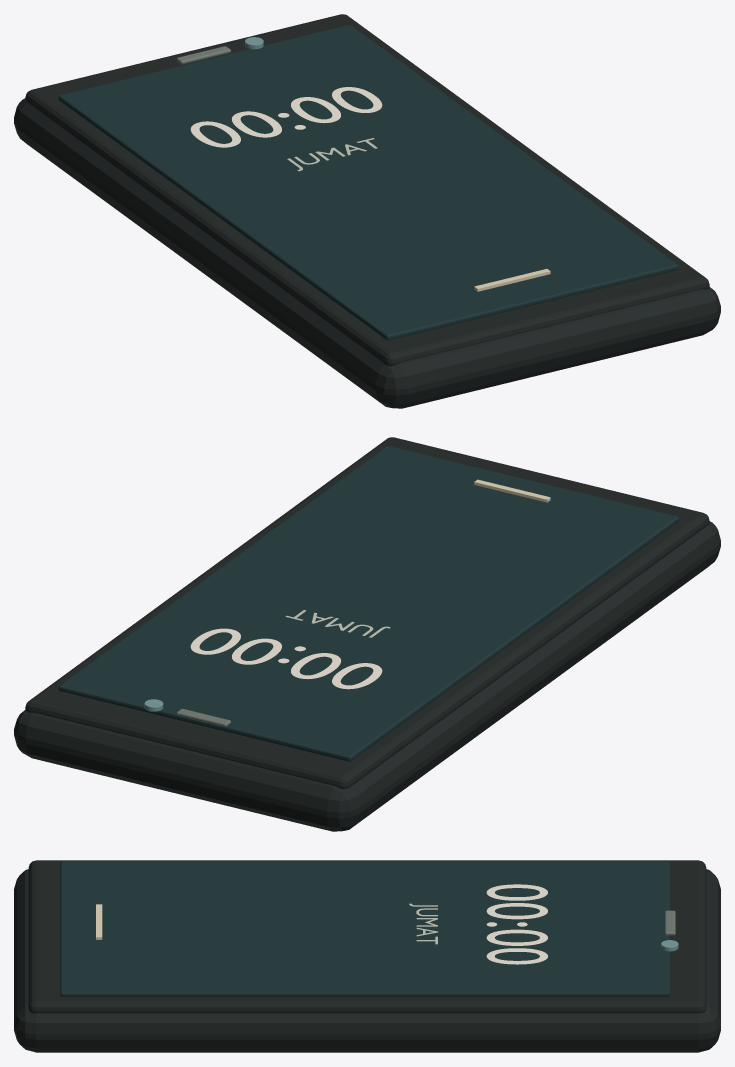
The model's file is smartphone_raka.glb.
3 renders of one model, top to bottom at view 1: azimuth 30°, elevation 25°; view 2: azimuth 150°, elevation 25°; view 3: azimuth 270°, elevation 25°, orthographic. The views are drawn at different scales.
Visible parts, largest first — view 1: smartphone_raka; view 2: smartphone_raka; view 3: smartphone_raka.
Part boxes in pixels (<box>): smartphone_raka: <box>14,14,720,408</box>; smartphone_raka: <box>14,437,720,831</box>; smartphone_raka: <box>14,860,720,1052</box>.
Bounding box in the file's own units: 0.0776 × 0.0144 × 0.15.
